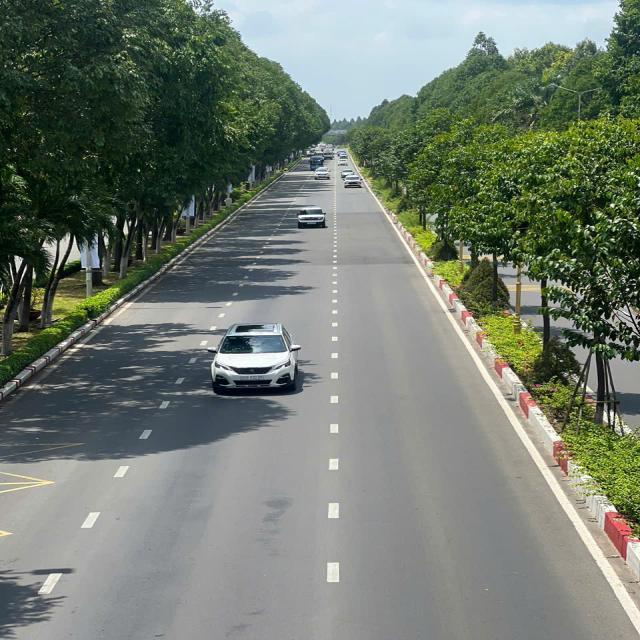Bus: (312, 155, 326, 171)
Truck: (322, 150, 334, 161)
car: (209, 325, 304, 407), (298, 207, 326, 228), (345, 176, 361, 188), (316, 169, 330, 180), (340, 169, 356, 178), (336, 159, 346, 166), (339, 154, 350, 159), (338, 149, 347, 153), (325, 146, 334, 150), (307, 153, 316, 156)
